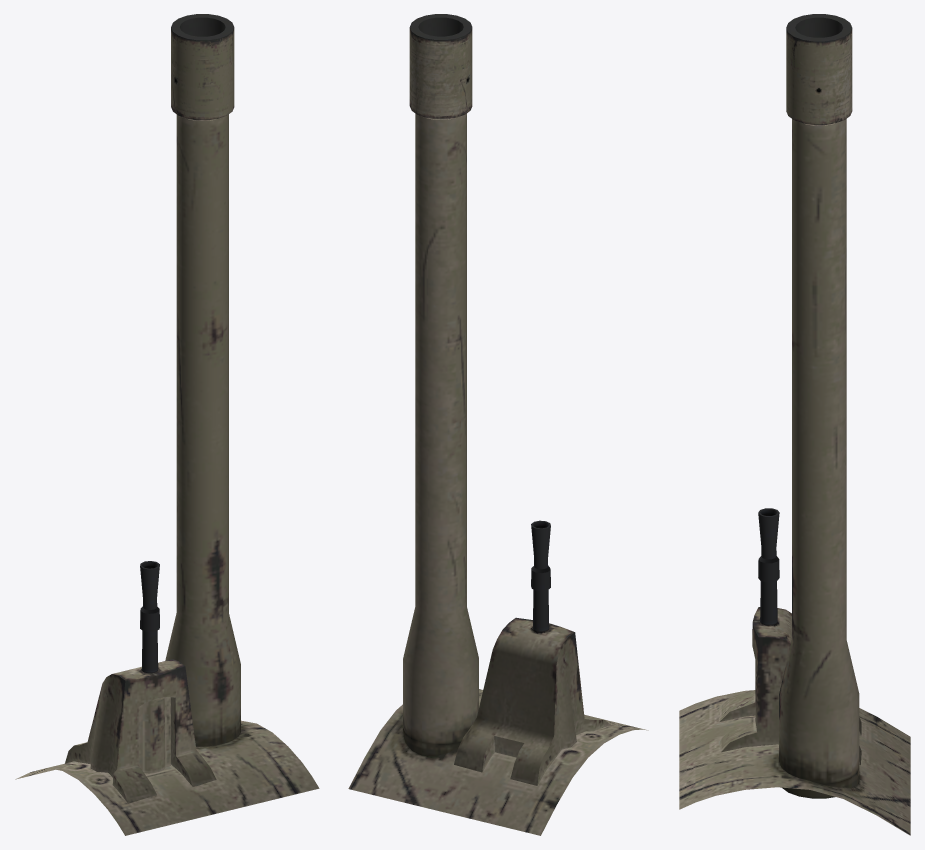
File: Gun_06.glb
The picture shows the model from 3 angles, left to right: view 1: azimuth 30°, elevation 25°; view 2: azimuth 150°, elevation 25°; view 3: azimuth 270°, elevation 25°; orthographic projection. The views are drawn at different scales.
Visible parts, largest first — view 1: set_0_group_0; view 2: set_0_group_0; view 3: set_0_group_0.
Part boxes in pixels (x1,y1,x2,y2): set_0_group_0: [15, 14, 319, 835]; set_0_group_0: [348, 14, 648, 835]; set_0_group_0: [679, 14, 910, 835].
Bounding box in the file's own units: 0.4515 × 1.66 × 0.4462.
1 material, 1 textured.
